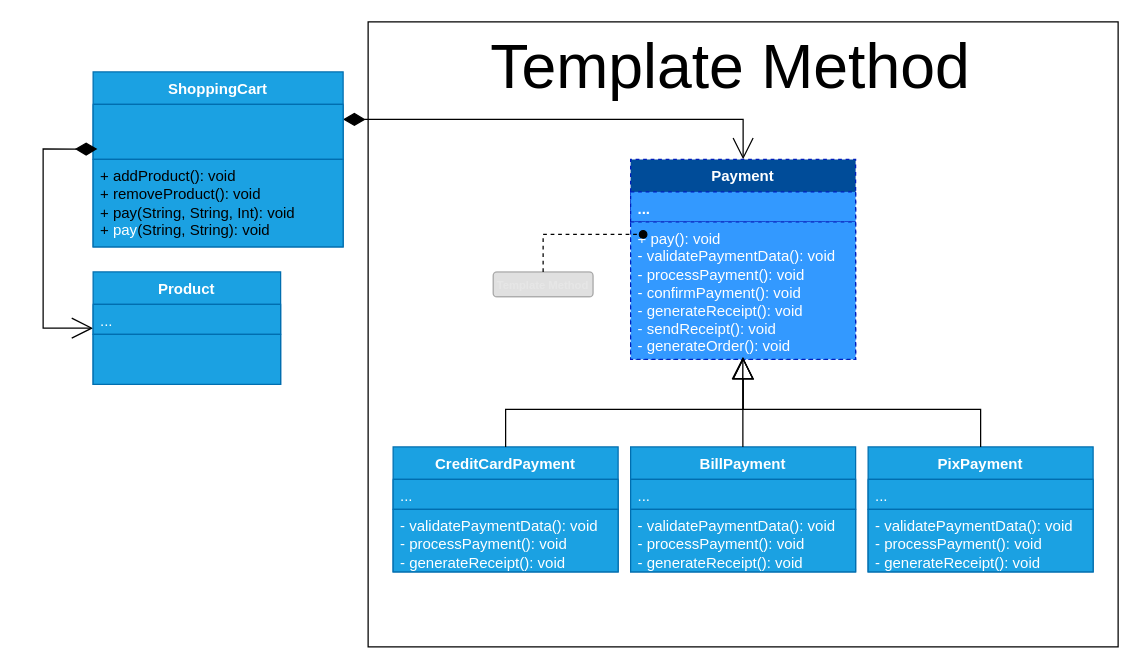
The diagram is 1140 pixels wide and 669 high, and some of its shapes have lost their labels. Each missing label, with the centre of its shape:
+ getName(): String + getPrice(): Double: point 186,358
- payment: Payment - product: Product []: point 217,131
